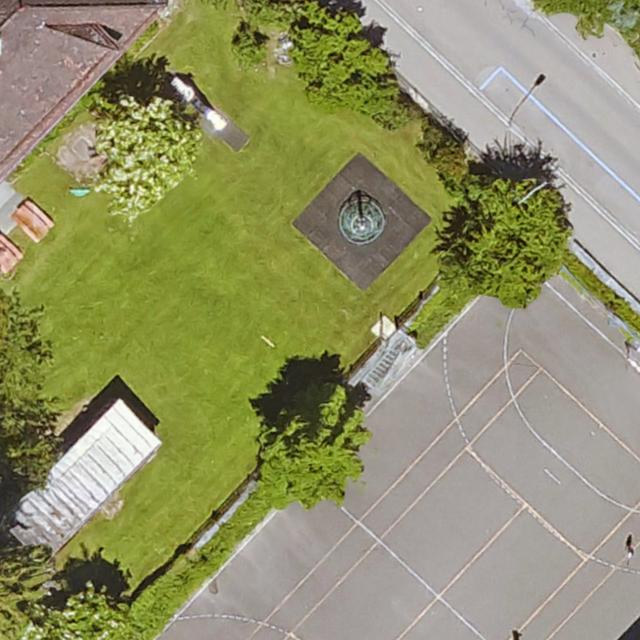tree: (443, 178, 569, 311), (258, 386, 366, 509), (95, 94, 199, 210), (0, 287, 48, 415), (0, 542, 50, 636), (534, 0, 640, 41), (0, 408, 55, 483), (53, 590, 135, 640)
